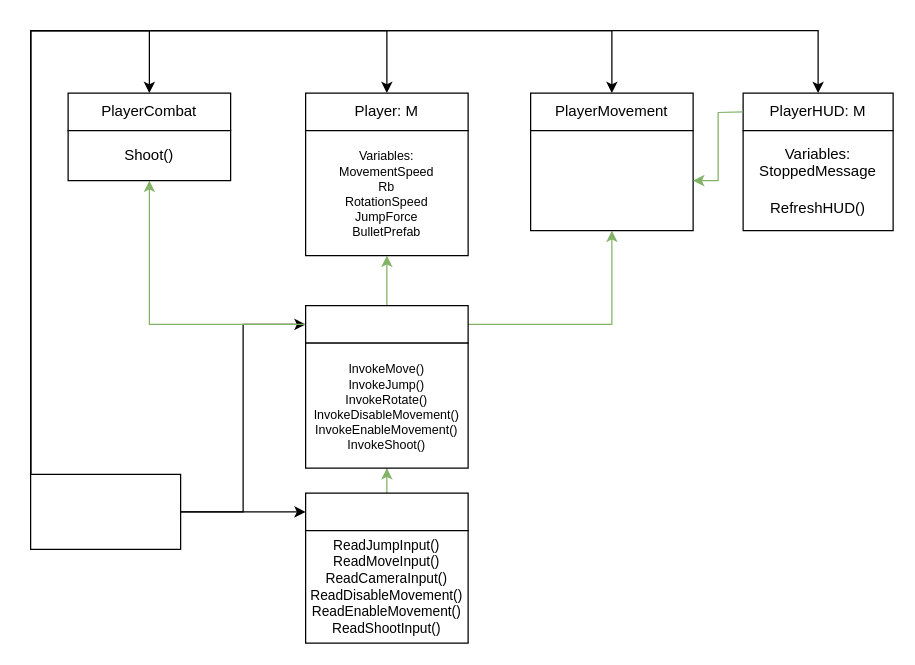
The diagram is 915 pixels wide and 665 high, and some of its shapes have lost their labels. Each missing label, with the box of its shape:
Bootstrapper: M: (29, 473, 181, 549)
InputListener: (304, 492, 468, 531)
Jump() Move() Rotate() SwitchMovementControl() OnControlStateChanged: (529, 129, 693, 231)
PlayerInvoker: (304, 304, 468, 343)
